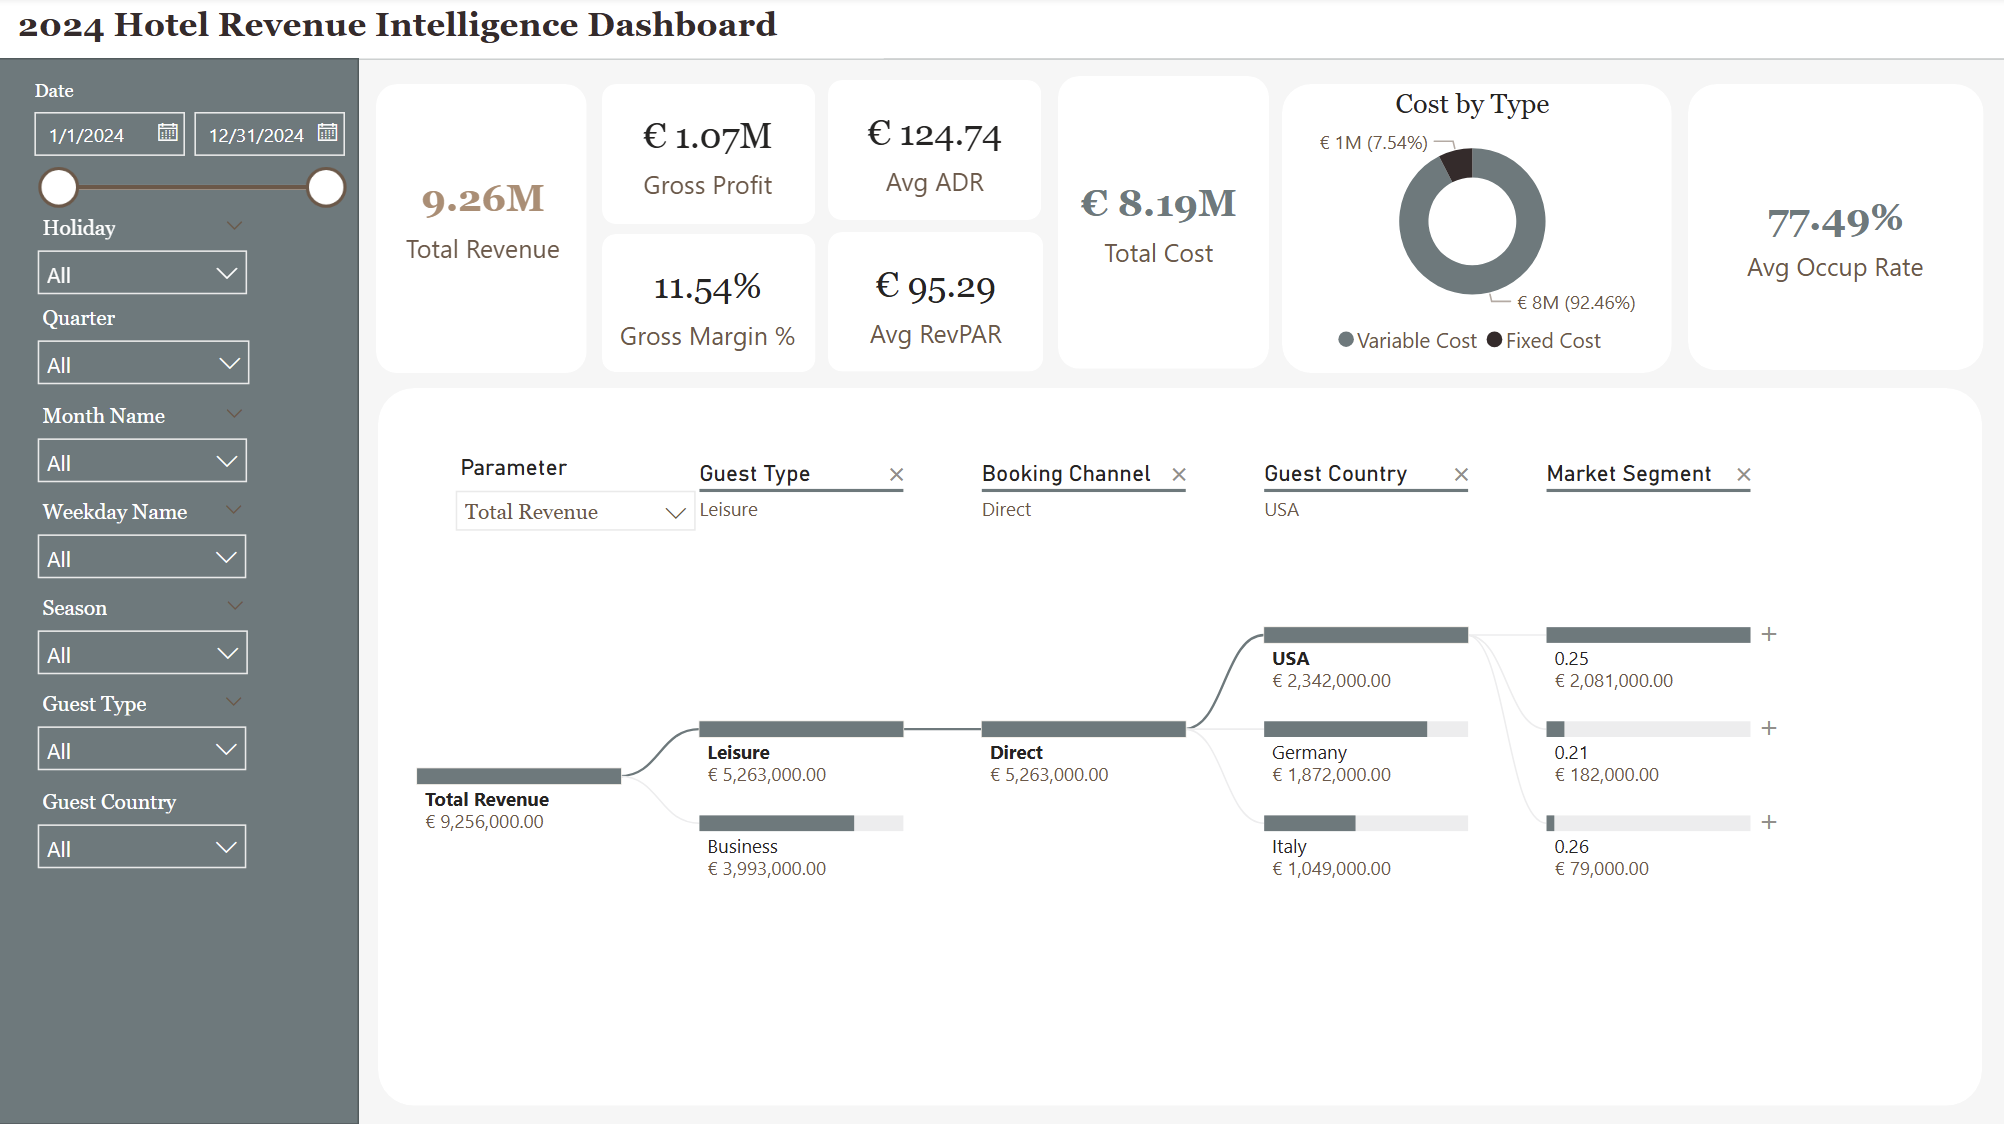

What the dashboard file says about the page in this screenshot:
{"tool":"powerbi","page":{"name":"Deep Dive Analysis - update","canvas":[1280,720],"ordinal":1},"visuals":[{"type":"shape","box":[243.8,250,1022.5,457.5],"z":0},{"type":"shape","box":[0,0,1284.1,40.5],"z":1000},{"type":"textbox","box":[8.6,1.4,557.1,38.6],"z":3000},{"type":"shape","box":[0,40,231.4,680],"z":4000},{"type":"slicer","fields":{"Values":["Date Table.Date"]},"box":[11,48.3,220,121.7],"z":5000},{"type":"slicer","fields":{"Values":["Date Table.Quarter"]},"box":[16.7,193.1,155,68.3],"z":6000},{"type":"slicer","fields":{"Values":["Date Table.MonthName"]},"box":[16.7,254.4,153.3,68.3],"z":7000},{"type":"slicer","fields":{"Values":["Date Table.WeekdayName"]},"box":[16.7,315.8,152.9,68.6],"z":8000},{"type":"slicer","fields":{"Values":["Hotel book.Season"]},"box":[16.7,377.3,153.8,68.7],"z":9000},{"type":"slicer","fields":{"Values":["Hotel book.Guest_Type"]},"box":[16.7,439,152.9,68.6],"z":10000},{"type":"slicer","fields":{"Values":["Hotel book.Guest_Country"]},"box":[16.7,500.6,152.9,68.6],"z":11000},{"type":"slicer","fields":{"Values":["Hotel book.Holiday"]},"box":[16.7,135,153.3,61.7],"z":12000},{"type":"shape","box":[1078.1,56.4,188.6,182.6],"z":13000},{"type":"shape","box":[529.9,150.7,137.3,89.1],"z":14000},{"type":"shape","box":[820.4,55.6,248.6,184.3],"z":15000},{"type":"shape","box":[386.1,55.6,136,89.3],"z":16000},{"type":"shape","box":[386.1,152.1,136.4,88.2],"z":17000},{"type":"shape","box":[529.9,54.2,136,89.3],"z":18000},{"type":"card","fields":{"Values":["Hotel book.Gross Margin %"]},"box":[379.1,139.4,150,114.5],"z":19000},{"type":"card","fields":{"Values":["Hotel book.Avg RevPAR"]},"box":[507.1,123.4,183.6,143.6],"z":20000},{"type":"donutChart","title":"Cost by Type","fields":{"Y":["Hotel book.Variable Cost","Hotel book.Fixed Cost"]},"box":[800.9,59.2,281.2,179.4],"z":21000},{"type":"card","fields":{"Values":["Hotel book.Avg Occup Rate"]},"box":[1081.5,64.4,182.9,174.1],"z":22000},{"type":"shape","box":[242.6,55.6,134.3,184.3],"z":23000},{"type":"card","fields":{"Values":["Hotel book.Total Revenue"]},"box":[216.4,71.2,187.3,137.3],"z":24000},{"type":"shape","box":[676.5,51.2,134.6,186.8],"z":25000},{"type":"card","fields":{"Values":["Hotel book.Total Cost"]},"box":[661.2,87.7,159.1,110],"z":26000},{"type":"card","fields":{"Values":["Hotel book.Total Profit"]},"box":[363.7,30.3,180.9,139.1],"z":27000},{"type":"card","fields":{"Values":["Hotel book.Avg ADR"]},"box":[504.4,26.1,187.3,145.5],"z":28000},{"type":"decompositionTreeVisual","title":"Occupancy Rate & RevPAR Trend","fields":{"Analyze":["DAX.Total Revenue"],"ExplainBy":["Hotel book.Guest_Type","Hotel book.Booking_Channel","Hotel book.Guest_Country","Hotel book.Market_Segment","Date Table.Season","Hotel book.Holiday","Hotel book.Marketing_Spend","Hotel book.Compliment","Hotel book.Complaints"]},"box":[238.6,278.6,1020,414.3],"z":29000},{"type":"slicer","fields":{"Values":["Parameter.Parameter"]},"box":[282.9,287.1,172.9,62.9],"z":30000},{"type":"textbox","box":[17,574.4,199.2,135.9],"z":30001}]}

Visuals, with their boxes in screenshot pixels (x1, y1, x2, y2), scaled from the page's 1280x720 canvas onto the 2004x1124 screenshot:
shape: locate(382, 390, 1983, 1104)
shape: locate(0, 0, 2003, 63)
textbox: locate(13, 2, 886, 62)
shape: locate(0, 62, 362, 1123)
slicer - Date Table.Date: locate(17, 75, 362, 265)
slicer - Date Table.Quarter: locate(26, 301, 269, 408)
slicer - Date Table.MonthName: locate(26, 397, 266, 504)
slicer - Date Table.WeekdayName: locate(26, 493, 266, 600)
slicer - Hotel book.Season: locate(26, 589, 267, 696)
slicer - Hotel book.Guest_Type: locate(26, 685, 266, 792)
slicer - Hotel book.Guest_Country: locate(26, 781, 266, 889)
slicer - Hotel book.Holiday: locate(26, 211, 266, 307)
shape: locate(1688, 88, 1983, 373)
shape: locate(830, 235, 1045, 374)
shape: locate(1284, 87, 1674, 375)
shape: locate(604, 87, 817, 226)
shape: locate(604, 237, 818, 375)
shape: locate(830, 85, 1043, 224)
card - Hotel book.Gross Margin %: locate(594, 218, 828, 396)
card - Hotel book.Avg RevPAR: locate(794, 193, 1081, 417)
"Cost by Type" donutChart: locate(1254, 92, 1694, 372)
card - Hotel book.Avg Occup Rate: locate(1693, 101, 1980, 372)
shape: locate(380, 87, 590, 375)
card - Hotel book.Total Revenue: locate(339, 111, 632, 325)
shape: locate(1059, 80, 1270, 372)
card - Hotel book.Total Cost: locate(1035, 137, 1284, 309)
card - Hotel book.Total Profit: locate(569, 47, 853, 264)
card - Hotel book.Avg ADR: locate(790, 41, 1083, 268)
"Occupancy Rate & RevPAR Trend" decompositionTreeVisual: locate(374, 435, 1970, 1082)
slicer - Parameter.Parameter: locate(443, 448, 714, 546)
textbox: locate(27, 897, 338, 1109)
